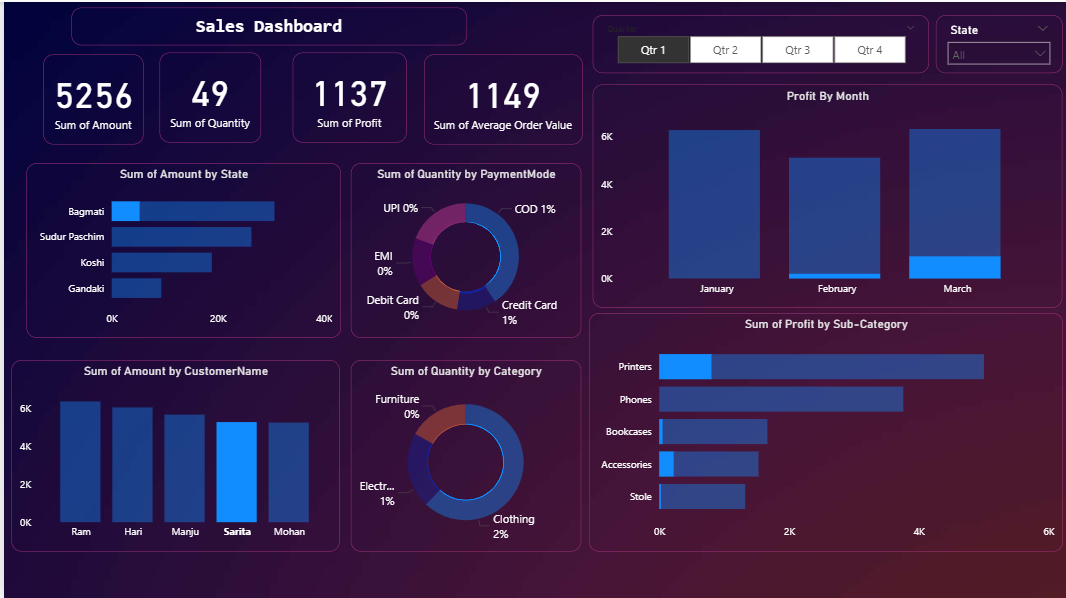

Layout of this report page (visuals, bound fields, positions):
{"tool":"powerbi","page":{"name":"Page 1","canvas":[1280,720],"ordinal":0},"visuals":[{"type":"textbox","box":[81,6.9,476.2,45.3],"z":0},{"type":"columnChart","title":"Profit By Month","fields":{"Category":["Orders (2).Order Date.Variation.Date Hierarchy.Month"],"Y":["Sum(Details.Profit)"]},"box":[709.4,100.2,565.4,269],"z":1000},{"type":"barChart","fields":{"Category":["Details.Sub-Category"],"Y":["Sum(Details.Profit)"]},"box":[703.9,374.6,570.8,286.8],"z":2000},{"type":"donutChart","fields":{"Category":["Details.Category"],"Y":["Sum(Details.Quantity)"]},"box":[418.5,430.9,277.2,230.5],"z":3000},{"type":"donutChart","fields":{"Y":["Sum(Details.Quantity)"],"Series":["Details.PaymentMode"]},"box":[418.5,194.9,277.2,209.9],"z":4000},{"type":"card","fields":{"Values":["Sum(Details.Amount)"]},"box":[46.7,63.1,120.8,108.4],"z":5000},{"type":"card","fields":{"Values":["Sum(Details.Quantity)"]},"box":[188,61.7,122.1,108.4],"z":6000},{"type":"card","fields":{"Values":["Sum(Details.Profit)"]},"box":[348.5,61.7,137.2,108.4],"z":7000},{"type":"card","fields":{"Values":["Sum(Details.Average Order Value)"]},"box":[505,63.1,190.7,108.4],"z":8000},{"type":"barChart","fields":{"Category":["Orders (2).State"],"Y":["Sum(Details.Amount)"]},"box":[26.1,194.9,378.7,209.9],"z":9000},{"type":"columnChart","fields":{"Category":["Orders (2).CustomerName"],"Y":["Sum(Details.Amount)"]},"box":[9.6,430.9,395.2,230.5],"z":10000},{"type":"slicer","fields":{"Values":["Orders (2).Order Date.Variation.Date Hierarchy.Quarter"]},"box":[709.4,16.5,404.8,70],"z":11000},{"type":"slicer","fields":{"Values":["Orders (2).State"]},"box":[1122.5,16.5,152.3,70],"z":12000}]}

Visuals, with their boxes in screenshot pixels (x1, y1, x2, y2), scaled from the page's 1280x720 canvas onto the 1066x598 screenshot:
textbox: 67, 6, 464, 43
"Profit By Month" columnChart: 591, 83, 1062, 307
barChart - Details.Sub-Category x Sum(Details.Profit): 586, 311, 1062, 549
donutChart - Details.Category x Sum(Details.Quantity): 349, 358, 579, 549
donutChart - Sum(Details.Quantity) x Details.PaymentMode: 349, 162, 579, 336
card - Sum(Details.Amount): 39, 52, 139, 142
card - Sum(Details.Quantity): 157, 51, 258, 141
card - Sum(Details.Profit): 290, 51, 404, 141
card - Sum(Details.Average Order Value): 421, 52, 579, 142
barChart - Orders (2).State x Sum(Details.Amount): 22, 162, 337, 336
columnChart - Orders (2).CustomerName x Sum(Details.Amount): 8, 358, 337, 549
slicer - Orders (2).Order Date.Variation.Date Hierarchy.Quarter: 591, 14, 928, 72
slicer - Orders (2).State: 935, 14, 1062, 72
